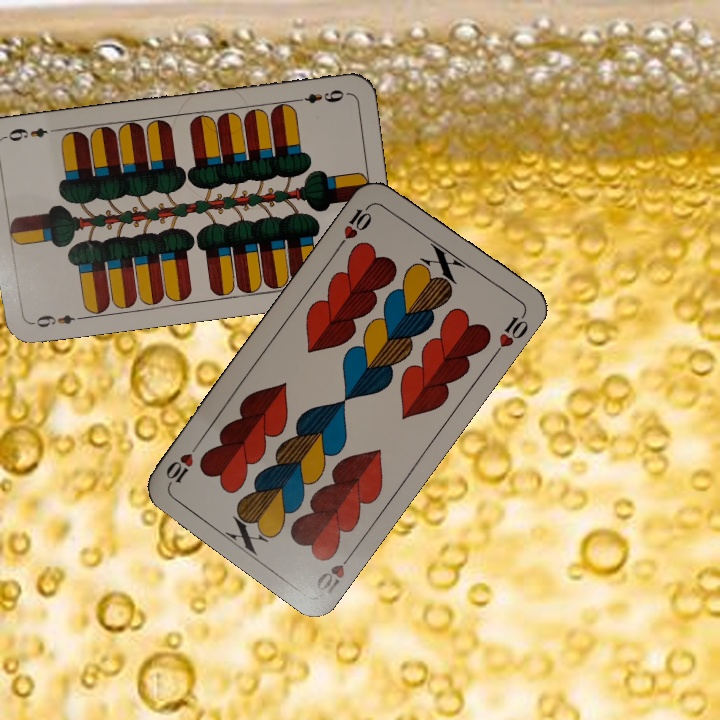E9: (290, 85, 349, 106), (27, 310, 86, 330)
H10: (312, 545, 359, 598), (334, 199, 376, 250)
